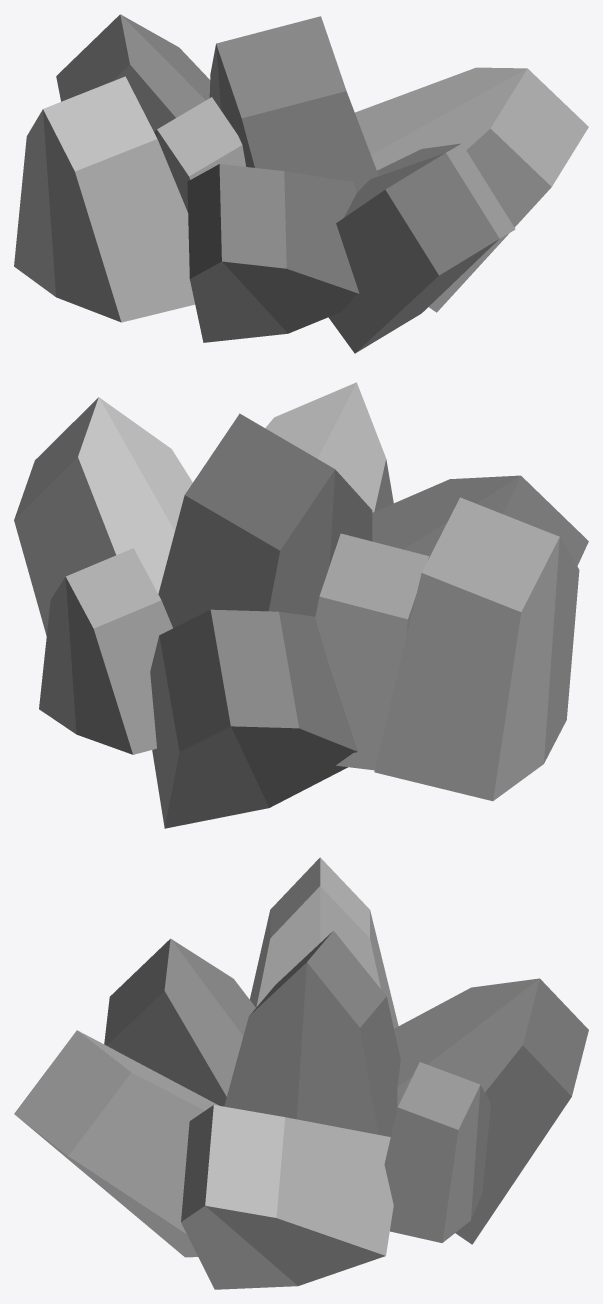
Rendered from rock-type3-04-grey.glb.
3 views of the same model, one above another, from view 1: azimuth 30°, elevation 25°; view 2: azimuth 150°, elevation 25°; view 3: azimuth 270°, elevation 25° (orthographic). The views are drawn at different scales.
Parts seen in each view (by area): view 1: Rock_Type3_04_mesh; view 2: Rock_Type3_04_mesh; view 3: Rock_Type3_04_mesh.
Part boxes in pixels (x1=…): Rock_Type3_04_mesh: x1=14, y1=14, x2=588, y2=353; Rock_Type3_04_mesh: x1=14, y1=382, x2=588, y2=828; Rock_Type3_04_mesh: x1=14, y1=857, x2=588, y2=1289.
Size of the model in its own units: 1.29 by 0.7066 by 1.26.
1 material, 1 textured.
